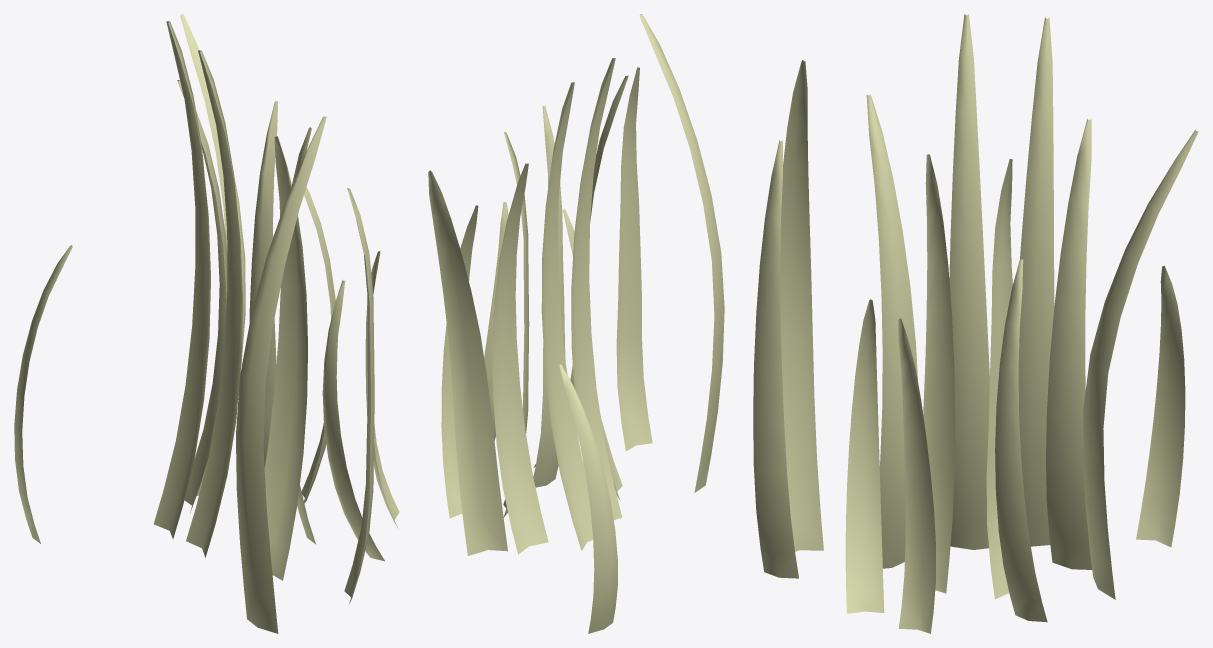
File: prova 1.fbx
The picture shows the model from 3 angles, left to right: view 1: azimuth 30°, elevation 25°; view 2: azimuth 150°, elevation 25°; view 3: azimuth 270°, elevation 25°; orthographic projection. The views are drawn at different scales.
Visible parts, largest first — view 1: Plane.019; view 2: Plane.019; view 3: Plane.019.
Boxes of the visible parts, x1,y1,x2,y2 form: Plane.019: [14, 14, 399, 633]; Plane.019: [428, 14, 724, 633]; Plane.019: [753, 14, 1198, 633].
Size of the model in its own units: 56.81 by 80 by 42.77.
